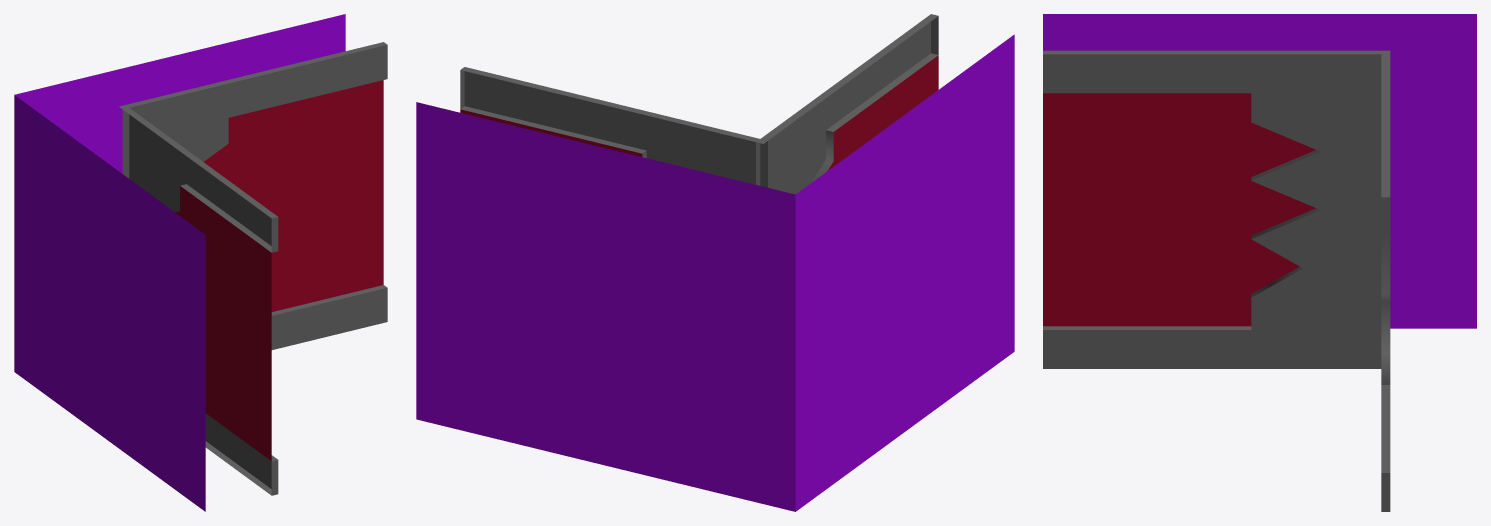
Rendered from Corner_01_In_1x1.fbx.
The picture shows the model from 3 angles, left to right: view 1: azimuth 30°, elevation 25°; view 2: azimuth 150°, elevation 25°; view 3: azimuth 270°, elevation 25°; orthographic projection. The views are drawn at different scales.
Parts seen in each view (by area): view 1: Corner_In_1x1; view 2: Corner_In_1x1; view 3: Corner_In_1x1.
Part boxes in pixels (x1,y1,x2,y2): Corner_In_1x1: (14, 14, 387, 511); Corner_In_1x1: (416, 14, 1014, 511); Corner_In_1x1: (1043, 14, 1476, 511).
Bounding box in the file's own units: 1.25 × 1 × 1.25.
